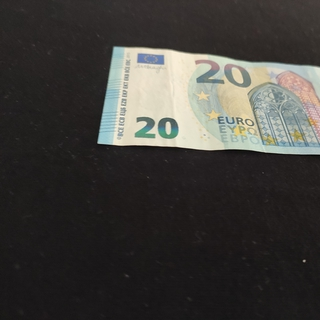20EUROFront: (95, 46, 320, 155)
